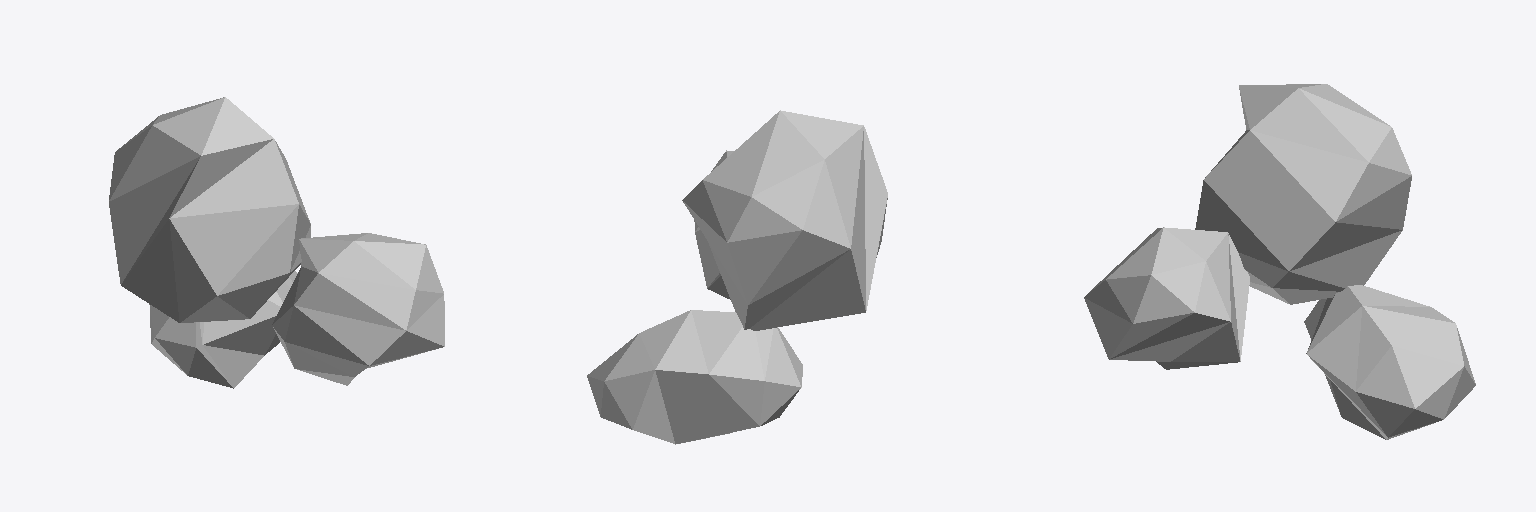
File: leaves1.obj
3 renders of one model, left to right at view 1: azimuth 30°, elevation 25°; view 2: azimuth 150°, elevation 25°; view 3: azimuth 270°, elevation 25°, orthographic.
Parts seen in each view (by area): view 1: pSphere1 group6 group4, group6 group4 pSphere2, group6 group4 pSphere3; view 2: pSphere1 group6 group4, group6 group4 pSphere3, group6 group4 pSphere2; view 3: pSphere1 group6 group4, group6 group4 pSphere3, group6 group4 pSphere2.
Part boxes in pixels (x1,y1,x2,y2): pSphere1 group6 group4: (109, 97, 310, 322); group6 group4 pSphere2: (272, 233, 444, 385); group6 group4 pSphere3: (149, 271, 297, 388); pSphere1 group6 group4: (682, 110, 887, 330); group6 group4 pSphere3: (587, 310, 802, 444); group6 group4 pSphere2: (694, 150, 733, 299); pSphere1 group6 group4: (1195, 84, 1411, 304); group6 group4 pSphere3: (1304, 285, 1475, 439); group6 group4 pSphere2: (1084, 227, 1249, 369).
Bounding box in the file's own units: 0.7988 × 1.03 × 1.16.